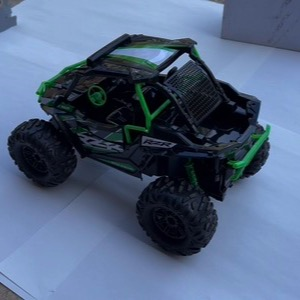polaris: (7, 33, 273, 256)
